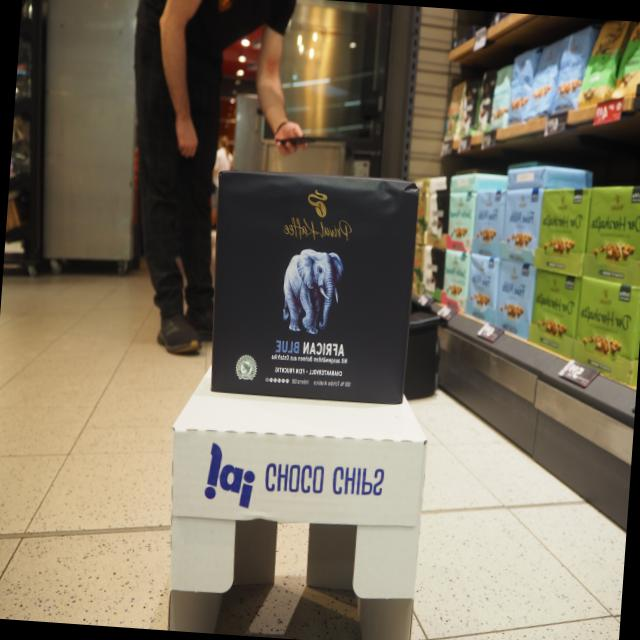AB Gemahlen: (208, 165, 422, 407)
